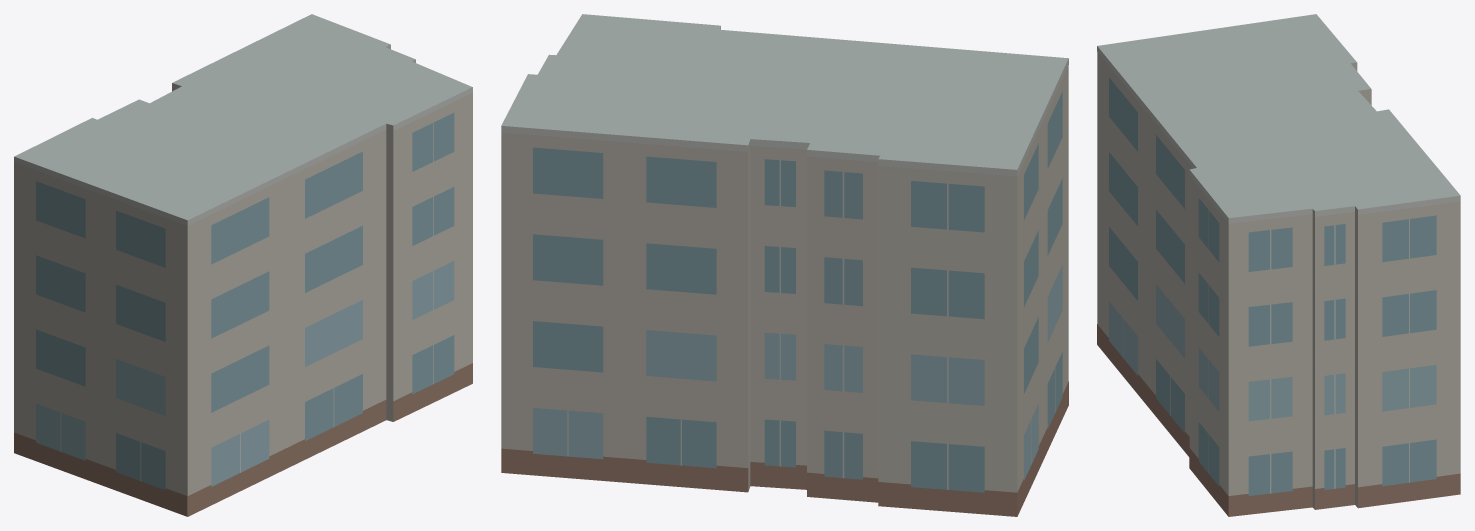
File: survey-upis-32738940.glb
3 renders of one model, left to right at view 1: azimuth 30°, elevation 25°; view 2: azimuth 150°, elevation 25°; view 3: azimuth 270°, elevation 25°, orthographic. The views are drawn at different scales.
Visible parts, largest first — view 1: survey-upis-32738940.tmp; view 2: survey-upis-32738940.tmp; view 3: survey-upis-32738940.tmp.
Boxes of the visible parts, box(x1,y1,x2,y2) form: survey-upis-32738940.tmp: box(14, 14, 472, 516); survey-upis-32738940.tmp: box(501, 14, 1068, 516); survey-upis-32738940.tmp: box(1097, 14, 1460, 516).
Bounding box in the file's own units: 18.91 × 12.9 × 14.24.
